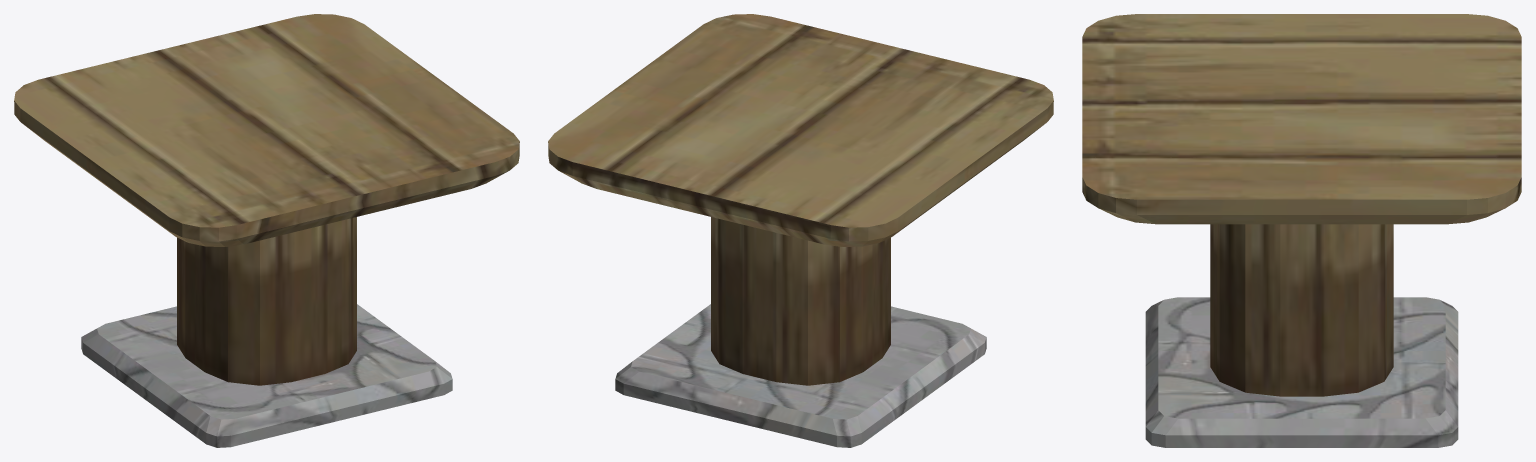
Rendered from artisan_bench.glb.
3 renders of one model, left to right at view 1: azimuth 30°, elevation 25°; view 2: azimuth 150°, elevation 25°; view 3: azimuth 270°, elevation 25°, orthographic. The views are drawn at different scales.
Parts seen in each view (by area): view 1: Plane; view 2: Plane; view 3: Plane.
Part boxes in pixels (left/top/right/bottom): Plane: left=14, top=14, right=519, bottom=447; Plane: left=548, top=14, right=1053, bottom=447; Plane: left=1082, top=14, right=1521, bottom=447.
Bounding box in the file's own units: 2.28 × 1.57 × 2.28.
1 material, 1 textured.
